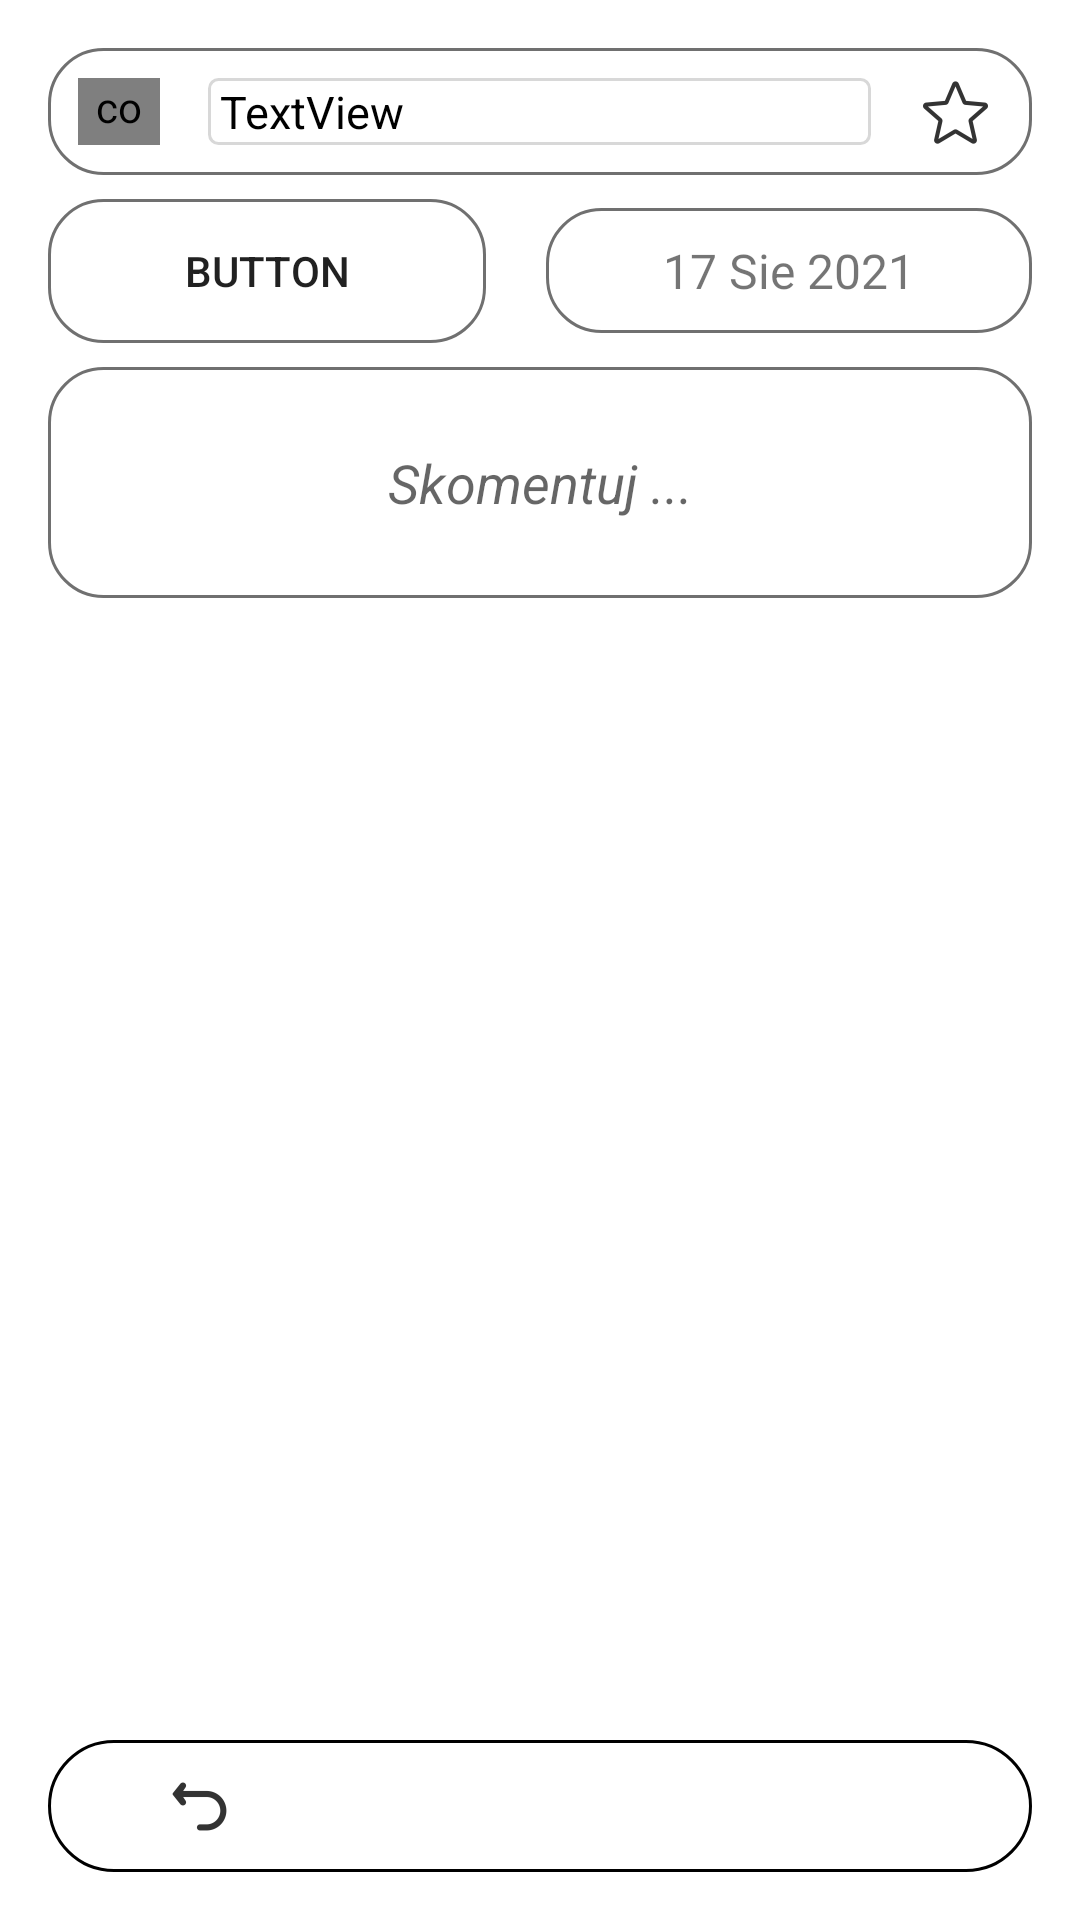

Named icons in this screenshot (1080×1920) and their bounding boxes, box=[x1, y1, x2, y2]:
checkboxpriority: box=[923, 81, 988, 144]
returnicon: box=[172, 1782, 227, 1831]
